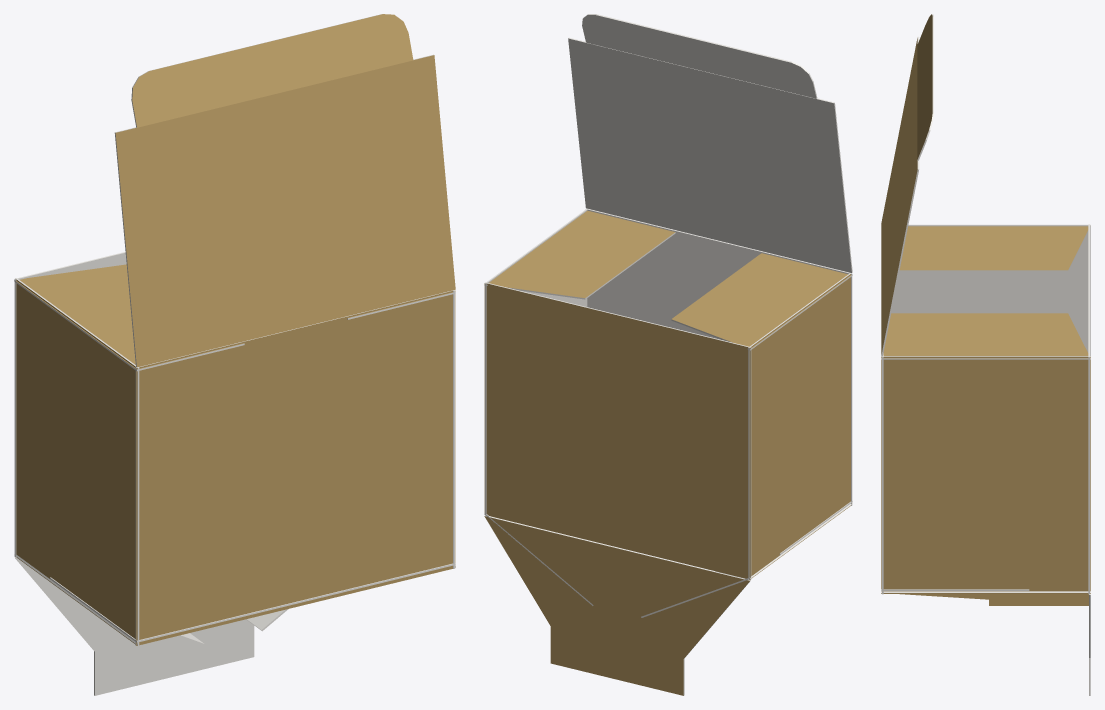
3 renders of one model, left to right at view 1: azimuth 30°, elevation 25°; view 2: azimuth 150°, elevation 25°; view 3: azimuth 270°, elevation 25°, orthographic. The views are drawn at different scales.
Visible parts, largest first — view 1: Packive_Box_fefco0215; view 2: Packive_Box_fefco0215; view 3: Packive_Box_fefco0215.
Part boxes in pixels (x1,y1,x2,y2): Packive_Box_fefco0215: (14, 14, 455, 695); Packive_Box_fefco0215: (484, 14, 852, 695); Packive_Box_fefco0215: (881, 14, 1090, 695).
Size of the model in its own units: 0.3 by 0.6304 by 0.2.
26 materials, 13 textured.
